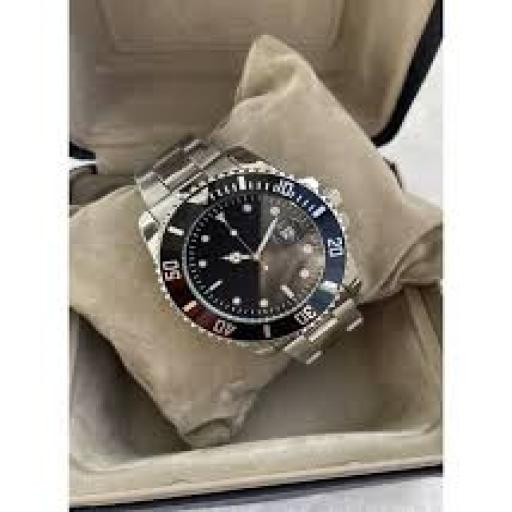KolSaati: (102, 111, 396, 403)
